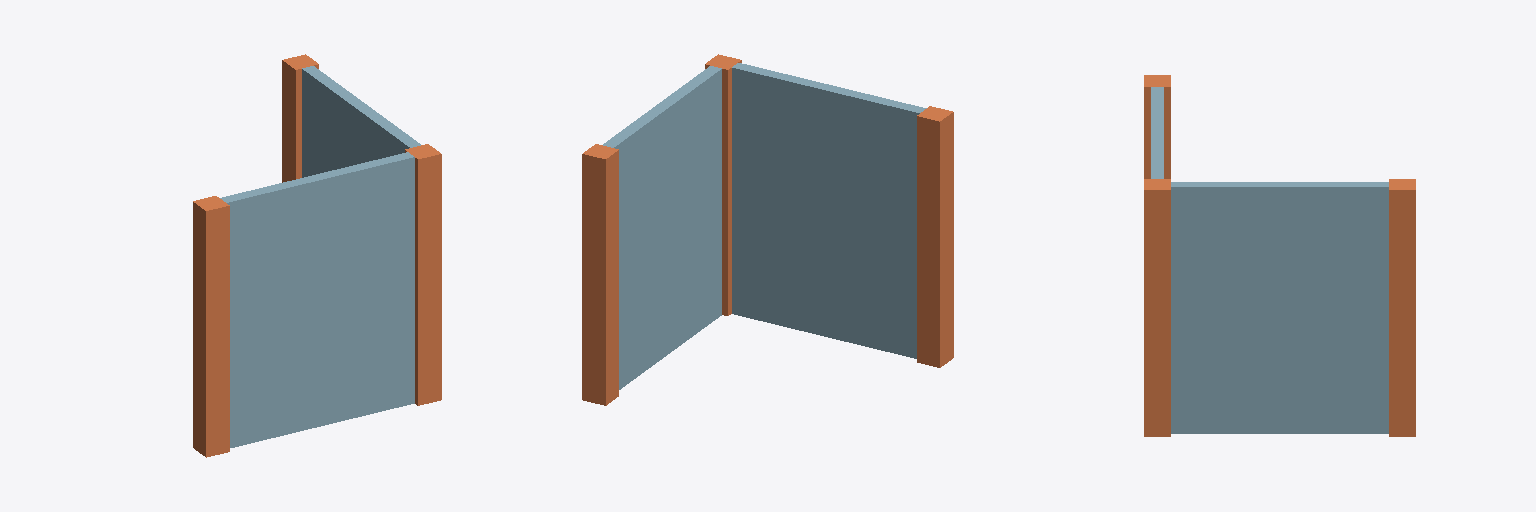
The model's file is wallCorner.obj.
The picture shows the model from 3 angles: view 1: azimuth 30°, elevation 25°; view 2: azimuth 150°, elevation 25°; view 3: azimuth 270°, elevation 25°; orthographic projection.
Parts seen in each view (by area): view 1: wallCorner; view 2: wallCorner; view 3: wallCorner.
Part boxes in pixels (x1,y1,x2,y2): wallCorner: (193, 54, 441, 457); wallCorner: (582, 54, 953, 405); wallCorner: (1144, 75, 1415, 436).
Bounding box in the file's own units: 1 × 1 × 1.